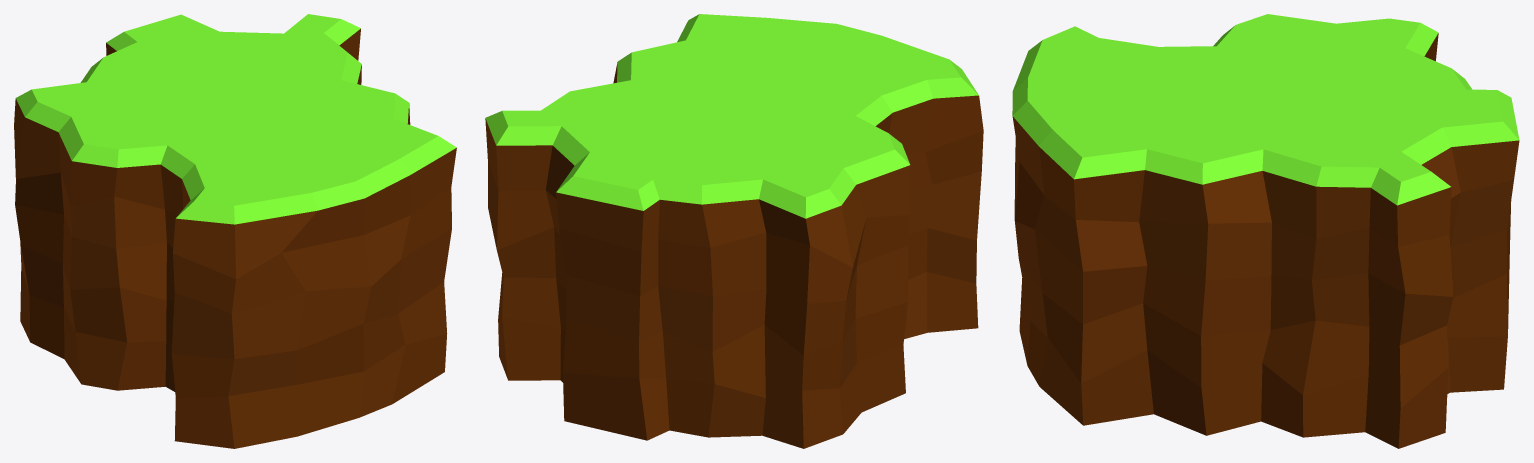
Rendered from Cliff_Model.fbx.
The picture shows the model from 3 angles, left to right: view 1: azimuth 30°, elevation 25°; view 2: azimuth 150°, elevation 25°; view 3: azimuth 270°, elevation 25°; orthographic projection. The views are drawn at different scales.
Parts seen in each view (by area): view 1: Plane; view 2: Plane; view 3: Plane.
Part boxes in pixels (x1,y1,x2,y2): Plane: (14, 14, 456, 448); Plane: (485, 14, 983, 448); Plane: (1012, 14, 1519, 448).
Bounding box in the file's own units: 161 × 106 × 182.
